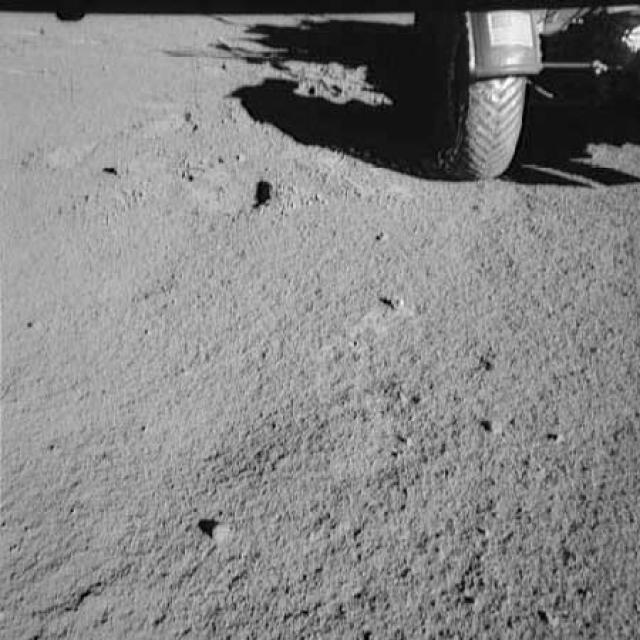artifact: (416, 4, 638, 202)
rock: (262, 175, 332, 216), (200, 514, 234, 548), (373, 288, 404, 314)
